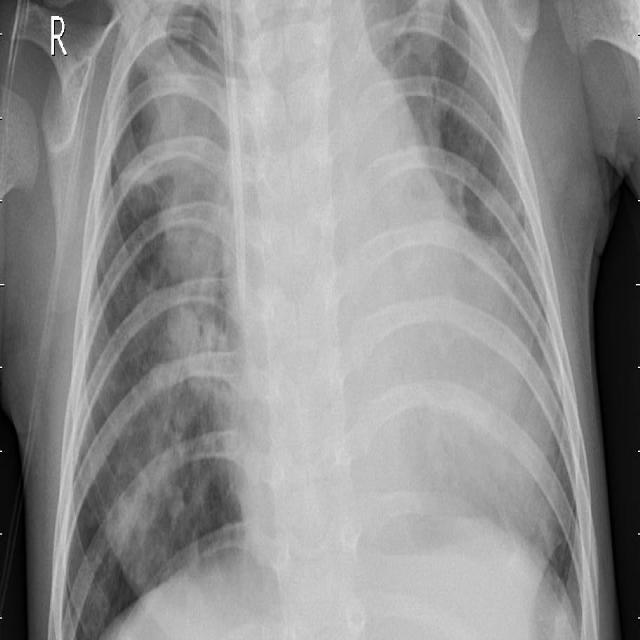high-pneumonia: (140, 45, 233, 287)
low-pneumonia: (118, 304, 236, 581), (481, 262, 563, 557), (366, 2, 474, 197)
